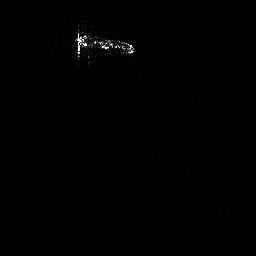ship: (75, 31, 135, 55)
